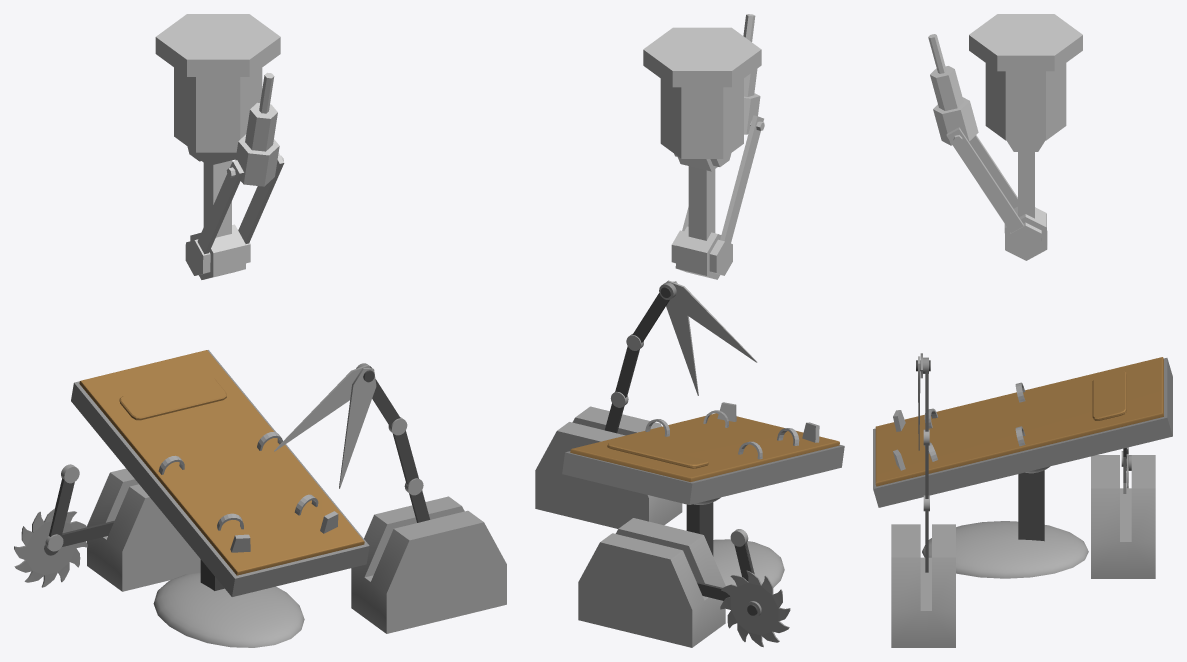
The model's file is operatingTable_blades.fbx.
3 renders of one model, left to right at view 1: azimuth 30°, elevation 25°; view 2: azimuth 150°, elevation 25°; view 3: azimuth 270°, elevation 25°, orthographic. The views are drawn at different scales.
Visible parts, largest first — view 1: pCube1, pCube12, Base, pCube11, pSphere1, ArmUpper, Head, polySurface1, pCube2, ArmLower, pCube10, pCube7 (×2) (+2 smaller); view 2: pCube1, pCube11, Base, pCube12, ArmUpper, polySurface1, ArmLower, pSphere1, pCube9, pCube2, Head, pCube10 (+3 smaller); view 3: pCube1, Base, pCube11, pCube12, pSphere1, ArmUpper, Head, pCube5, pCube2, ArmLower.
Part boxes in pixels (x1=…): pCube1: x1=71, y1=350, x2=369, y2=596; pCube12: x1=351, y1=496, x2=506, y2=633; Base: x1=155, y1=14, x2=280, y2=152; pCube11: x1=87, y1=468, x2=200, y2=591; pSphere1: x1=153, y1=572, x2=304, y2=647; ArmUpper: x1=185, y1=153, x2=284, y2=279; Head: x1=226, y1=72, x2=283, y2=186; polySurface1: x1=14, y1=508, x2=87, y2=587; pCube2: x1=119, y1=376, x2=226, y2=420; ArmLower: x1=187, y1=146, x2=236, y2=237; pCube10: x1=339, y1=368, x2=376, y2=488; pCube7 (×2): x1=49, y1=430, x2=418, y2=536; pCube1: x1=562, y1=413, x2=844, y2=504; pCube11: x1=578, y1=518, x2=725, y2=647; Base: x1=643, y1=27, x2=761, y2=158; pCube12: x1=535, y1=406, x2=682, y2=528; ArmUpper: x1=671, y1=115, x2=763, y2=279; polySurface1: x1=720, y1=570, x2=790, y2=647; ArmLower: x1=674, y1=153, x2=731, y2=240; pSphere1: x1=713, y1=539, x2=784, y2=587; pCube9: x1=667, y1=280, x2=757, y2=362; pCube2: x1=607, y1=440, x2=708, y2=468; Head: x1=743, y1=14, x2=764, y2=134; pCube10: x1=666, y1=281, x2=698, y2=395; pCube1: x1=873, y1=357, x2=1172, y2=507; Base: x1=969, y1=14, x2=1082, y2=140; pCube11: x1=1091, y1=455, x2=1155, y2=578; pCube12: x1=891, y1=524, x2=955, y2=647; pSphere1: x1=922, y1=521, x2=1088, y2=578; ArmUpper: x1=946, y1=127, x2=1047, y2=260; Head: x1=928, y1=34, x2=978, y2=145; pCube5: x1=1018, y1=470, x2=1044, y2=541; pCube2: x1=1092, y1=371, x2=1126, y2=420; ArmLower: x1=1007, y1=140, x2=1044, y2=218.
Bounding box in the file's own units: 2.62 × 3.9 × 2.05.
